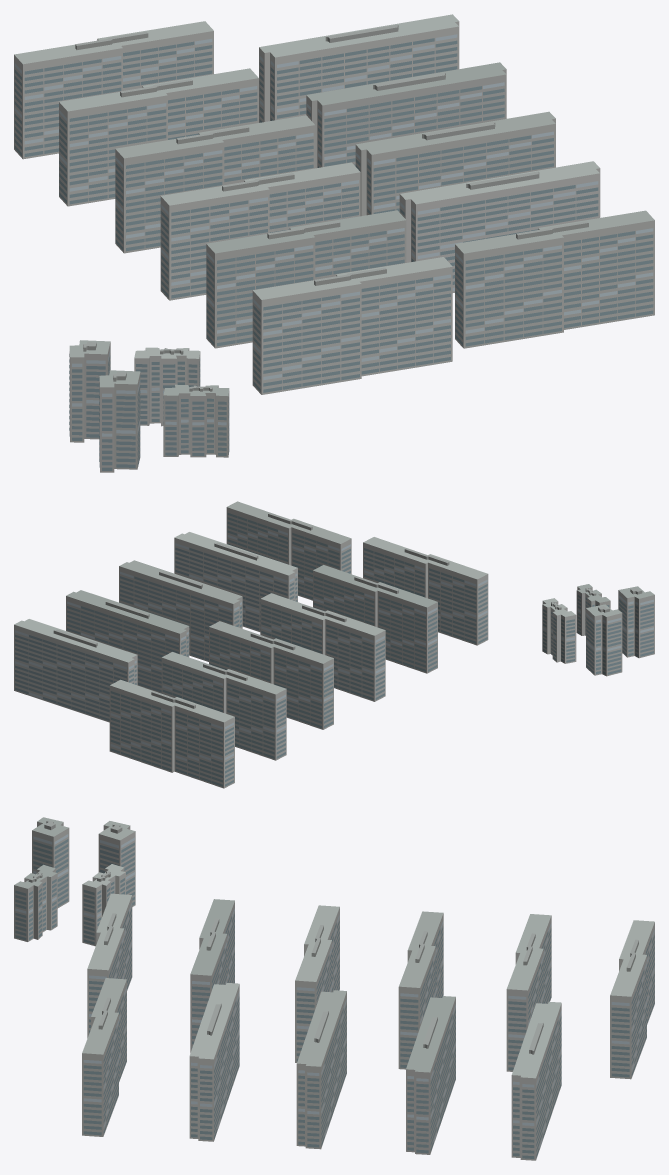
Rendered from apt-a13982604.glb.
3 views of the same model, one above another, from view 1: azimuth 30°, elevation 25°; view 2: azimuth 150°, elevation 25°; view 3: azimuth 270°, elevation 25° (orthographic). The views are drawn at different scales.
Parts seen in each view (by area): view 1: apt-a13982604; view 2: apt-a13982604; view 3: apt-a13982604.
Boxes of the visible parts, bbox=[...] form: apt-a13982604: bbox=[14, 14, 654, 472]; apt-a13982604: bbox=[14, 501, 654, 788]; apt-a13982604: bbox=[14, 817, 654, 1160].
Bounding box in the file's own units: 321 × 47.81 × 322.
